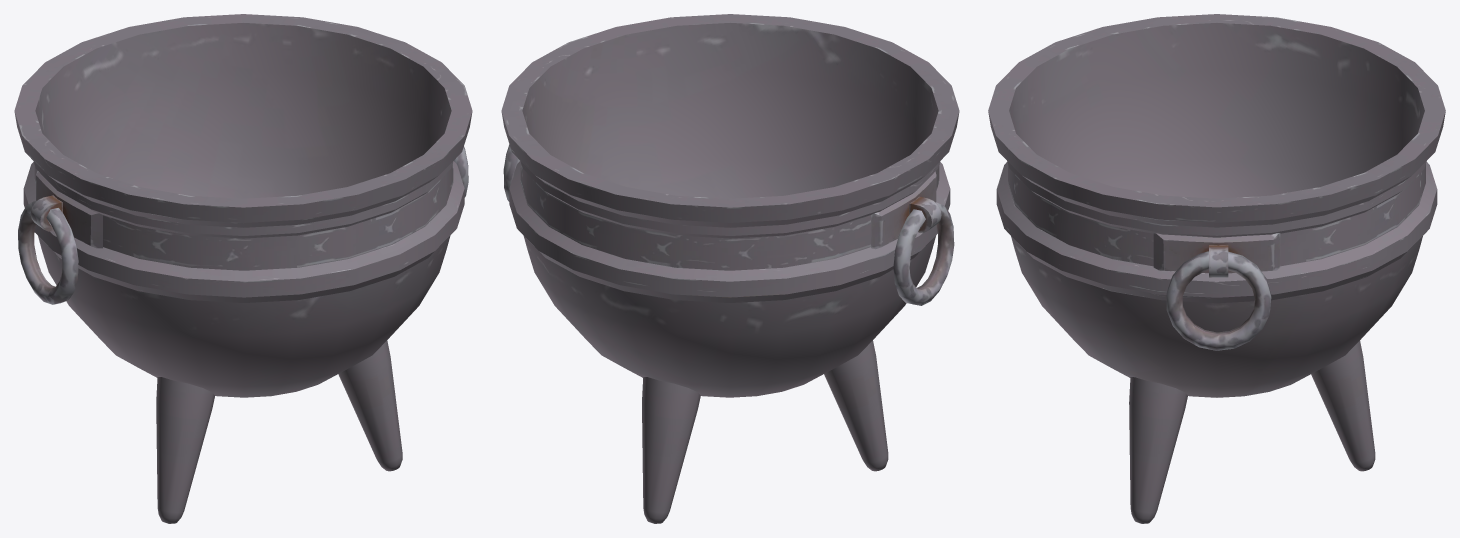
The model's file is Cauldron.gltf.
The picture shows the model from 3 angles, left to right: view 1: azimuth 30°, elevation 25°; view 2: azimuth 150°, elevation 25°; view 3: azimuth 270°, elevation 25°; orthographic projection.
Visible parts, largest first — view 1: Cauldron; view 2: Cauldron; view 3: Cauldron.
Part boxes in pixels (<box>): Cauldron: <box>14,14,472,523</box>; Cauldron: <box>501,14,959,523</box>; Cauldron: <box>988,14,1445,523</box>.
Size of the model in its own units: 0.9891 by 0.8155 by 0.944.
1 material, 1 textured.
